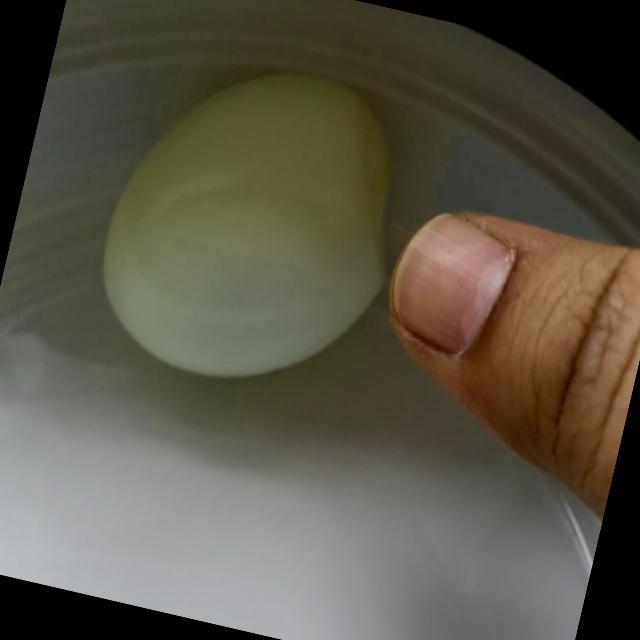Egg: (67, 29, 430, 426)
Finger: (348, 187, 640, 495)
